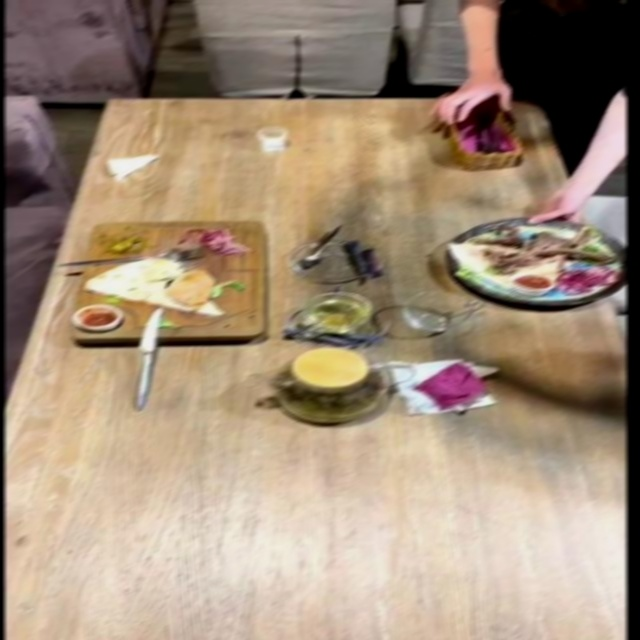meat: (422, 209, 638, 328), (72, 217, 274, 342)
tea: (246, 355, 413, 433)
